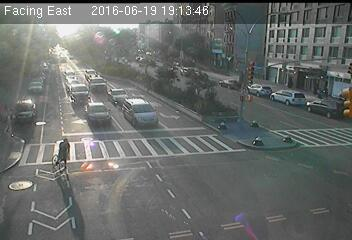neg: (39, 127, 82, 185), (213, 73, 229, 95), (204, 120, 213, 132)
